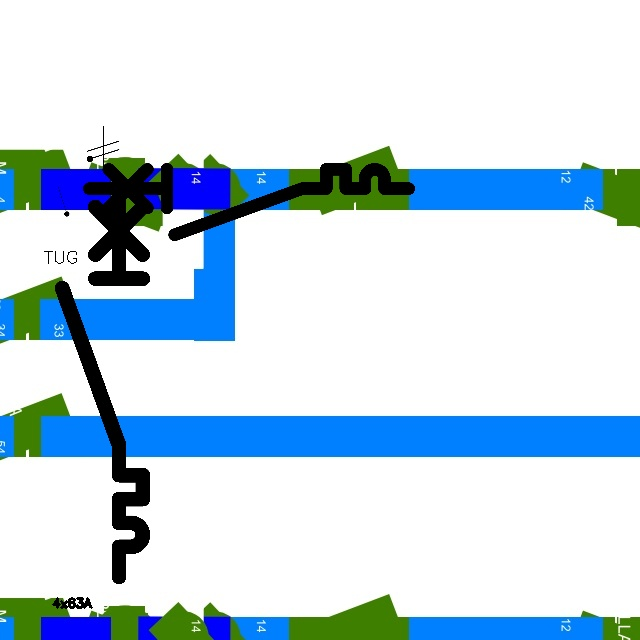interruptor_termomagnetico: (52, 172, 153, 586), (81, 161, 417, 243)
